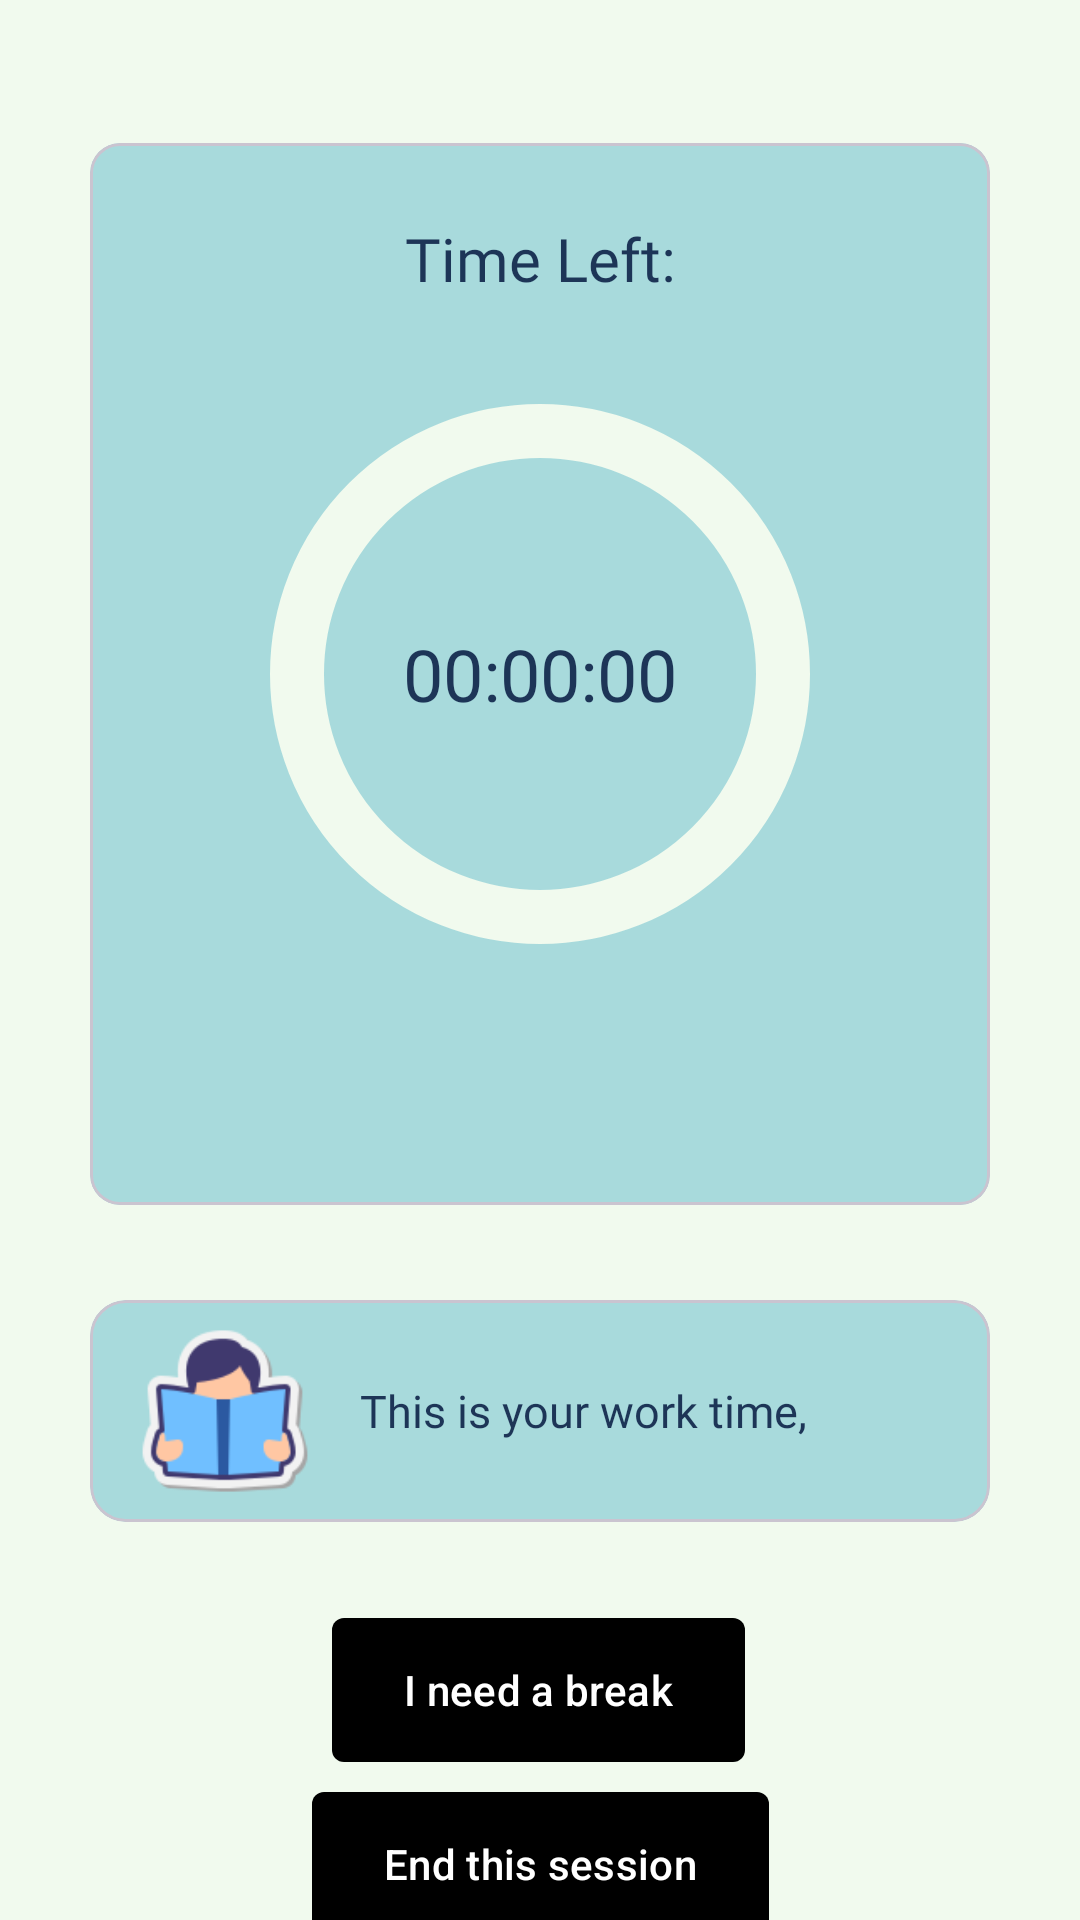

Where icons sit on this 1080 × 1920 app screen, as (x1, y1, x2, y2):
study sticker: (142, 1330, 307, 1492)
